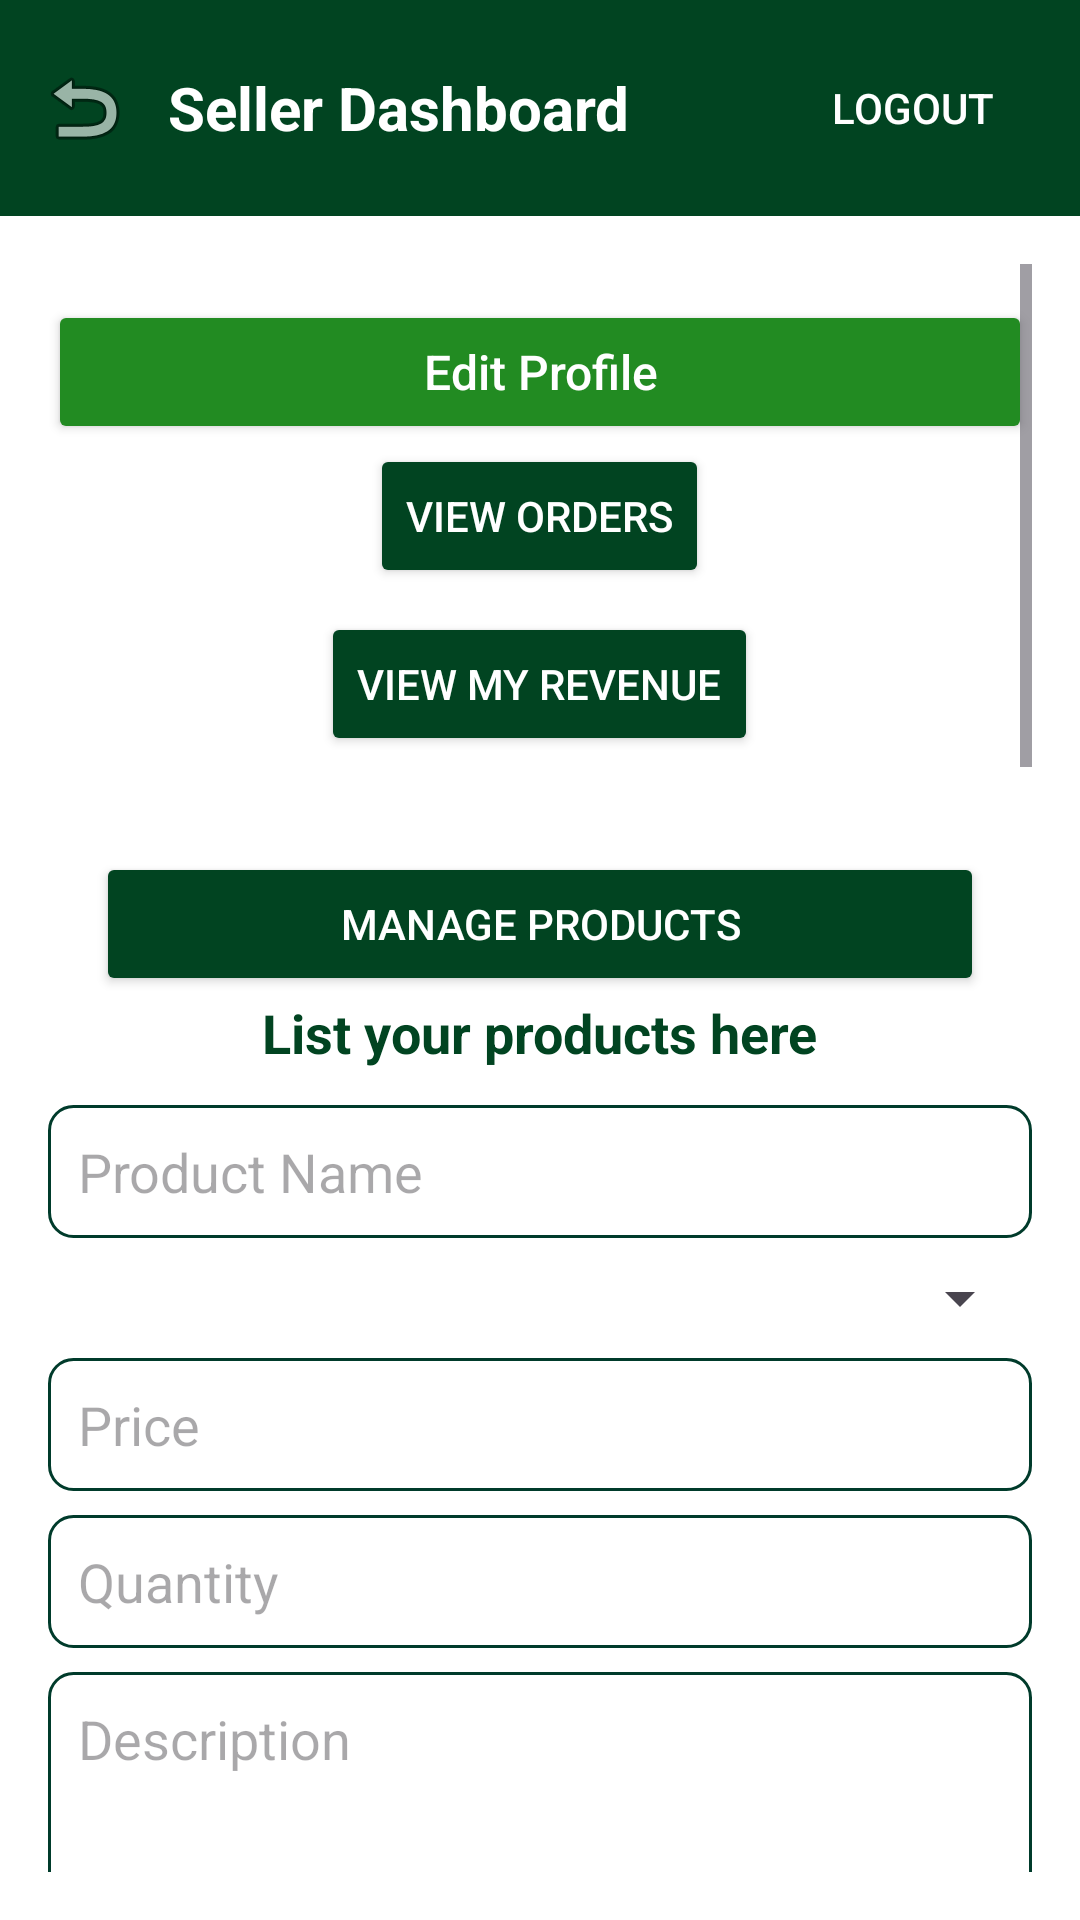

Icons on this 1080w x 1920h Android screen, each with its box as rect(x1, y1, x2, y2):
Back: rect(51, 78, 119, 139)
